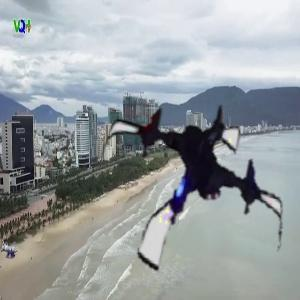drone: (89, 88, 297, 296)
